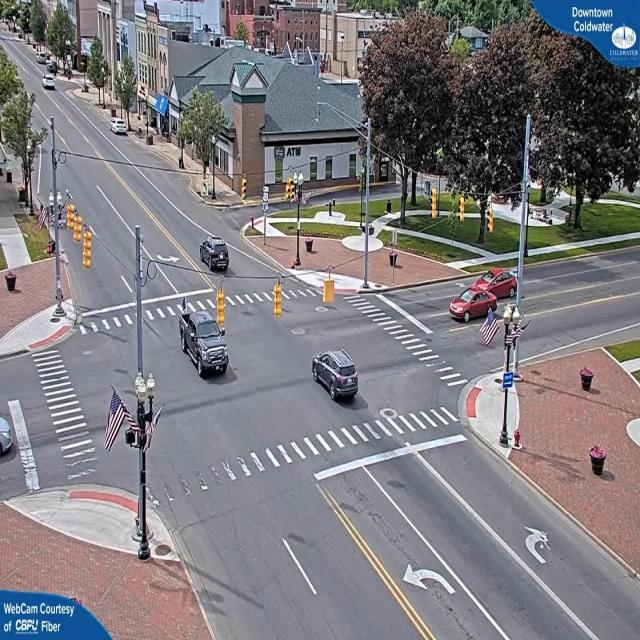car: (179, 308, 229, 379), (310, 350, 358, 402), (449, 284, 495, 322), (197, 236, 230, 272), (112, 121, 130, 138), (44, 76, 57, 92)
